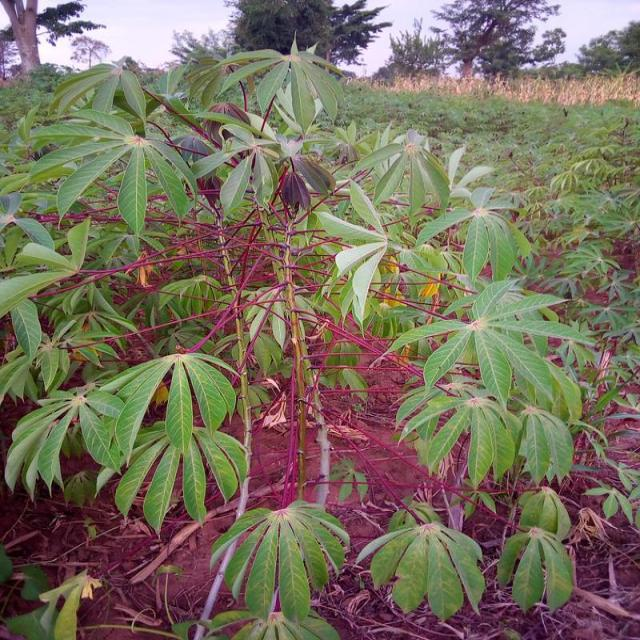cassava leaf: (1, 33, 597, 633), (208, 497, 349, 623)
